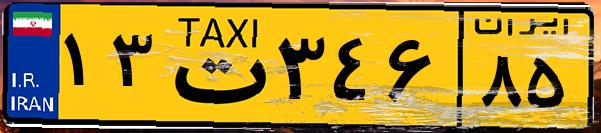1: (57, 26, 110, 100)
3: (270, 28, 330, 110), (110, 28, 158, 98)
4: (330, 28, 385, 110)
5: (525, 38, 570, 115)
6: (385, 28, 445, 110)
8: (475, 38, 525, 113)
ت: (158, 12, 270, 120)
